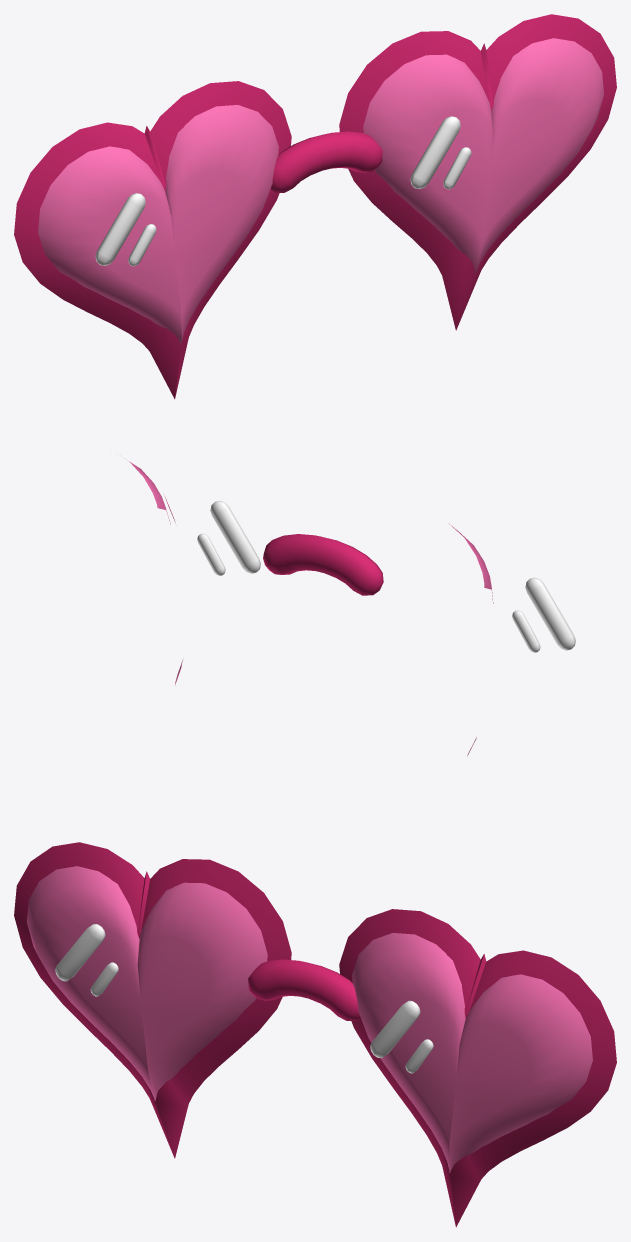
Rendered from heart_glasses.glb.
3 views of the same model, one above another, from view 1: azimuth 30°, elevation 25°; view 2: azimuth 150°, elevation 25°; view 3: azimuth 330°, elevation 25° (orthographic).
Visible parts, largest first — view 1: heart_glasses; view 2: heart_glasses; view 3: heart_glasses.
Part boxes in pixels (bbox=[...]): heart_glasses: bbox=[14, 14, 616, 399]; heart_glasses: bbox=[129, 461, 575, 756]; heart_glasses: bbox=[14, 842, 616, 1227].
Bounding box in the file's own units: 0.4978 × 0.243 × 0.0336.
